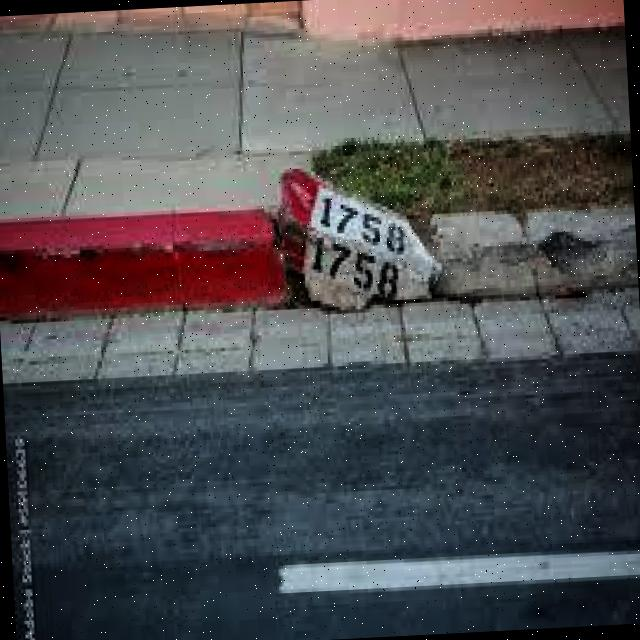curb: (1, 218, 291, 324), (436, 210, 637, 302)
